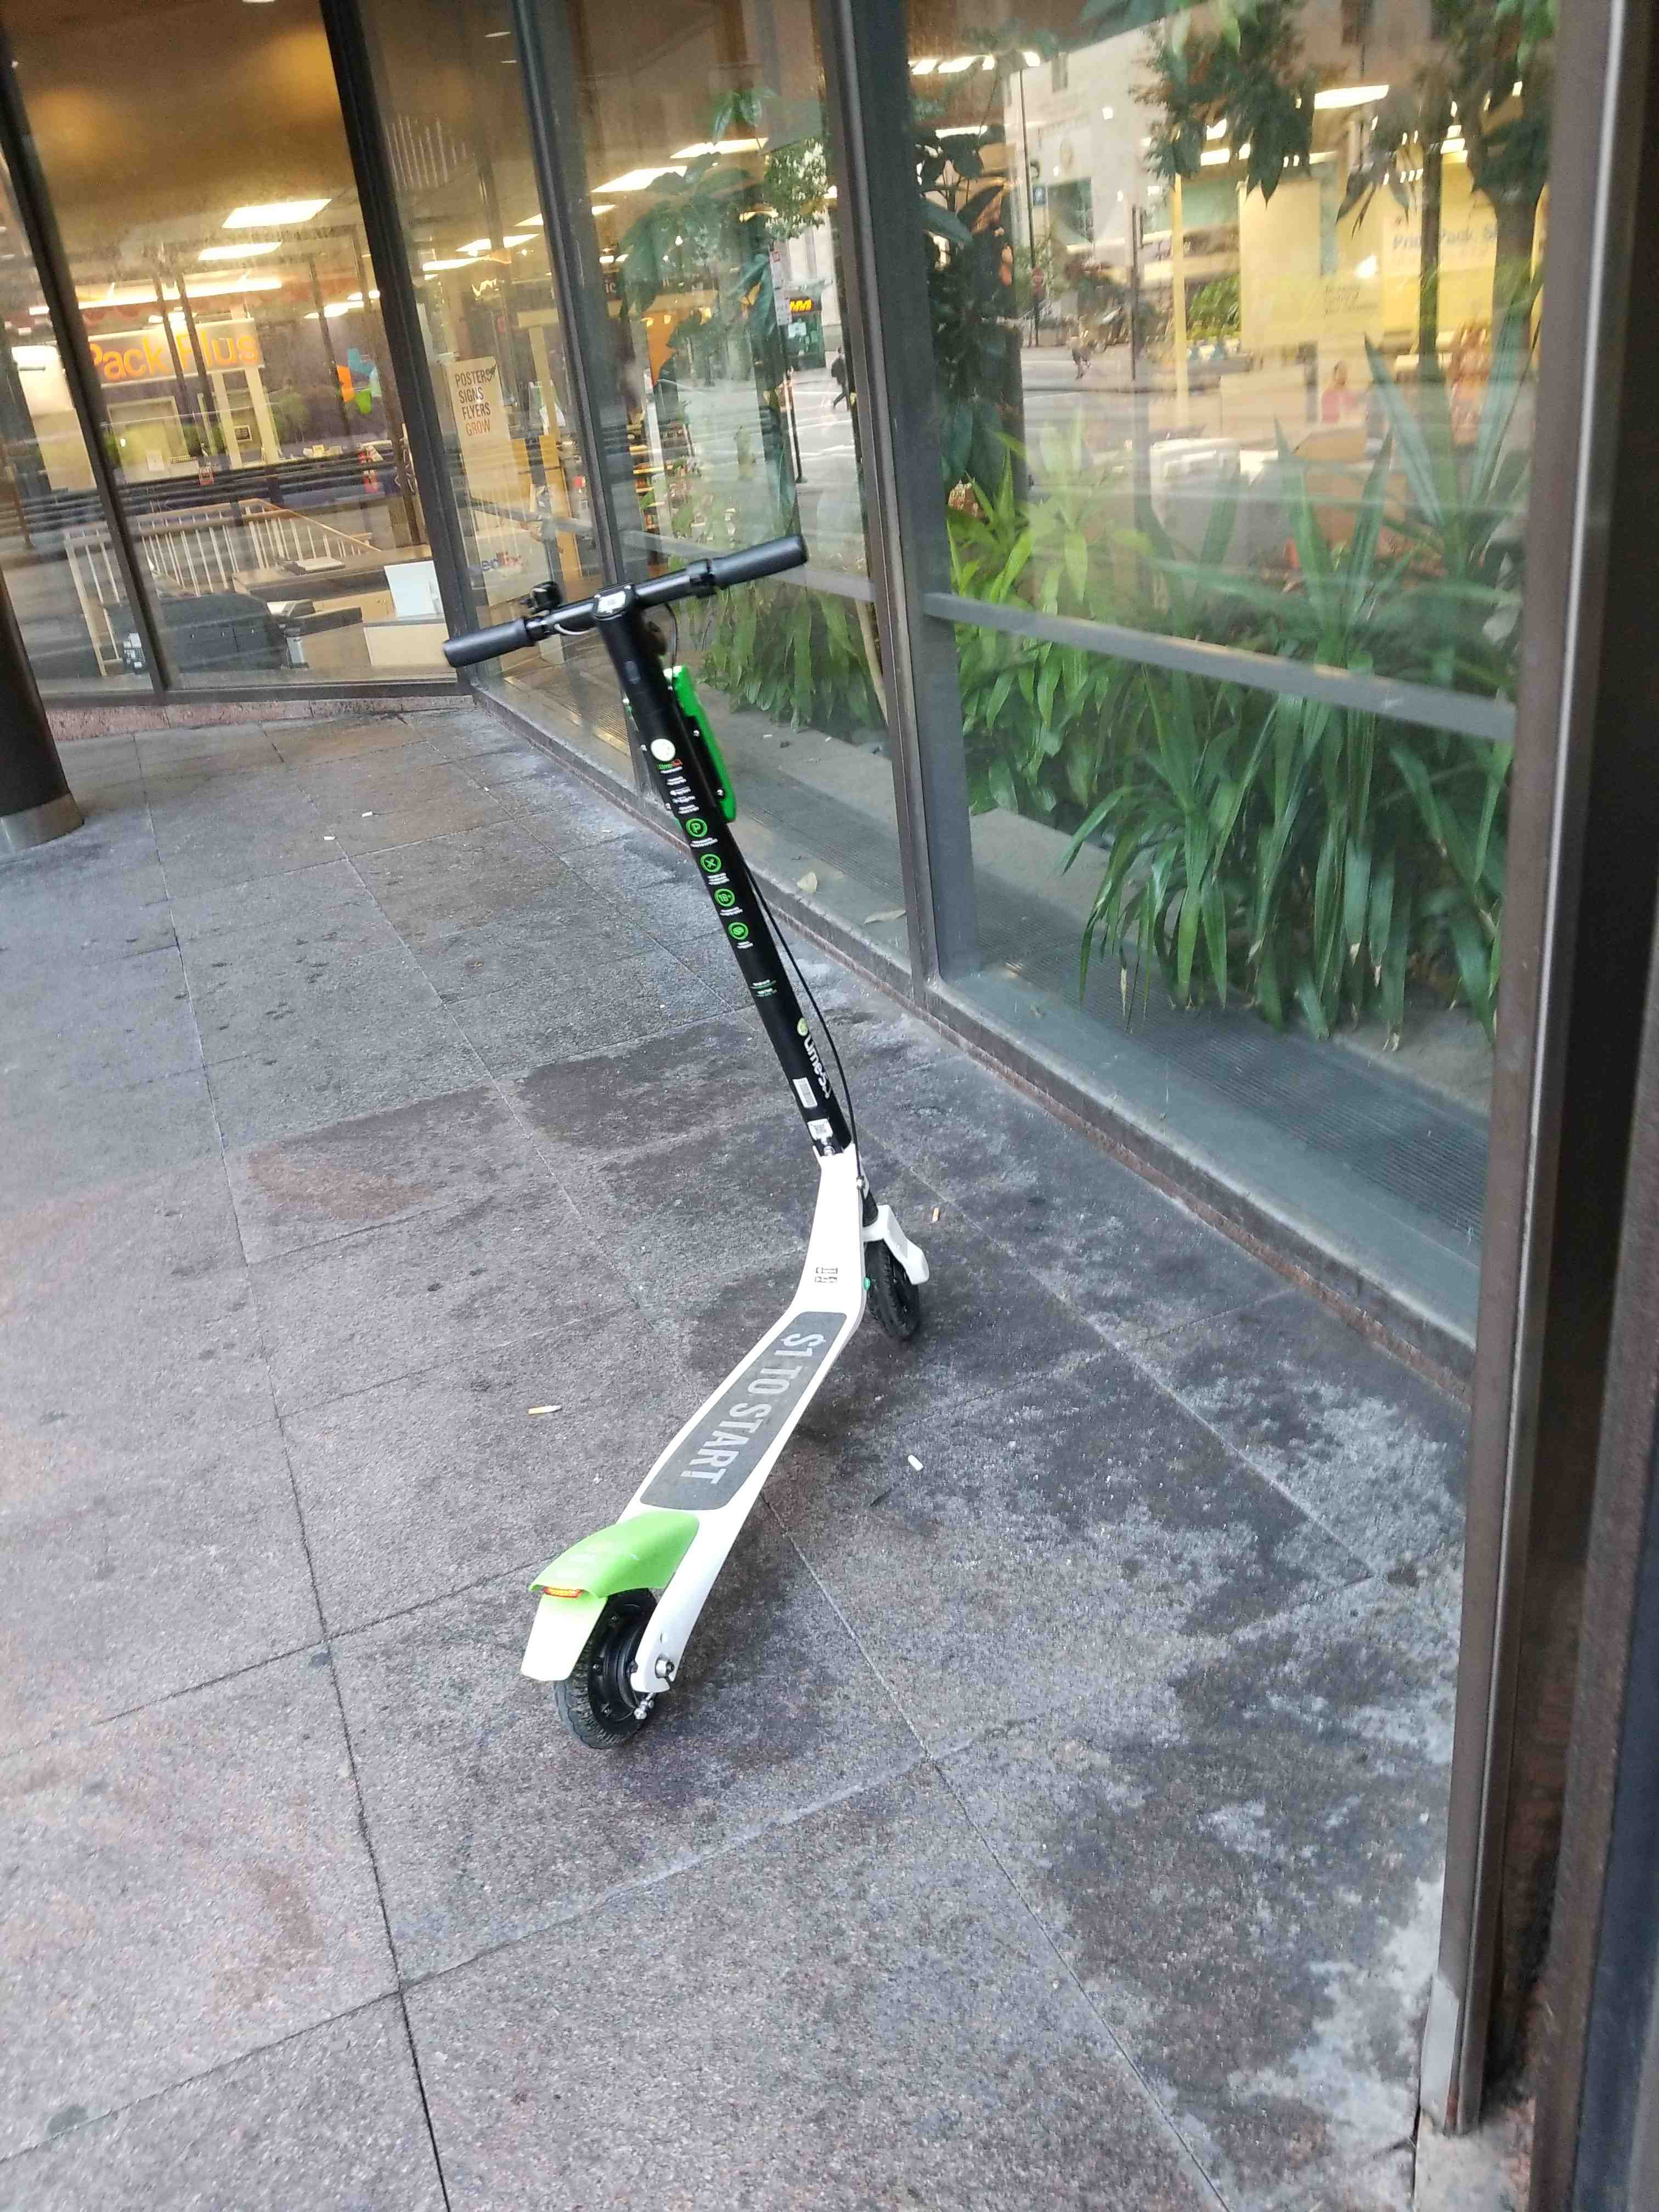scooter: (420, 521, 974, 1810)
